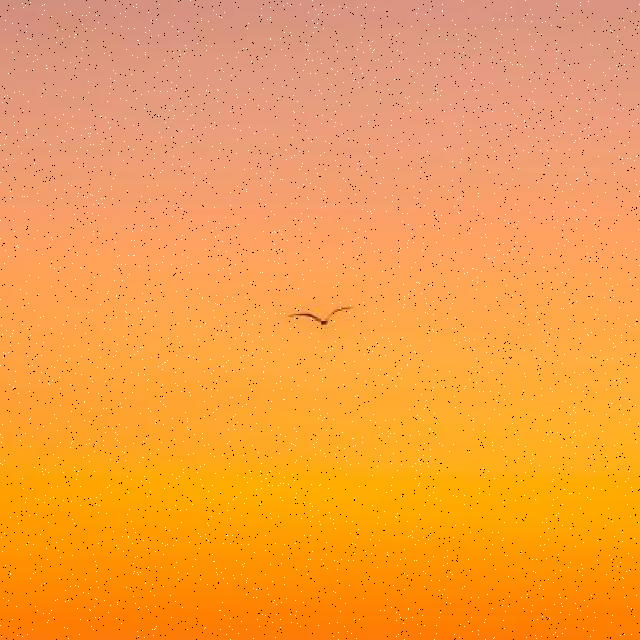bird: (286, 306, 354, 326)
